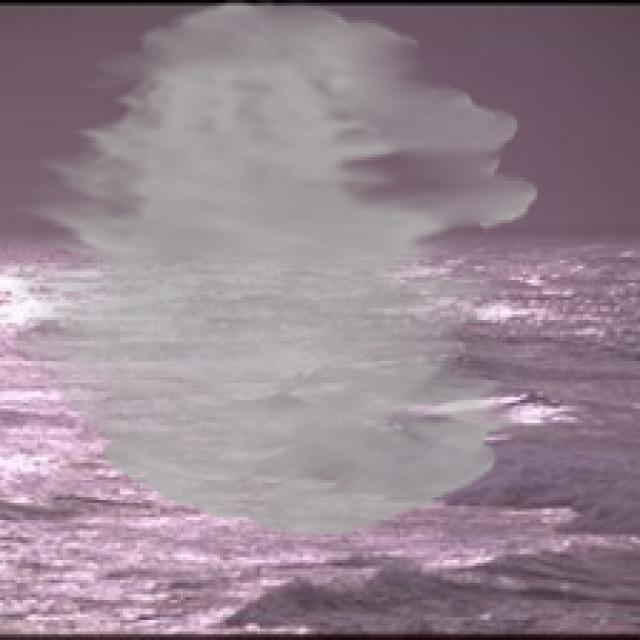smoke: (5, 0, 538, 535)
